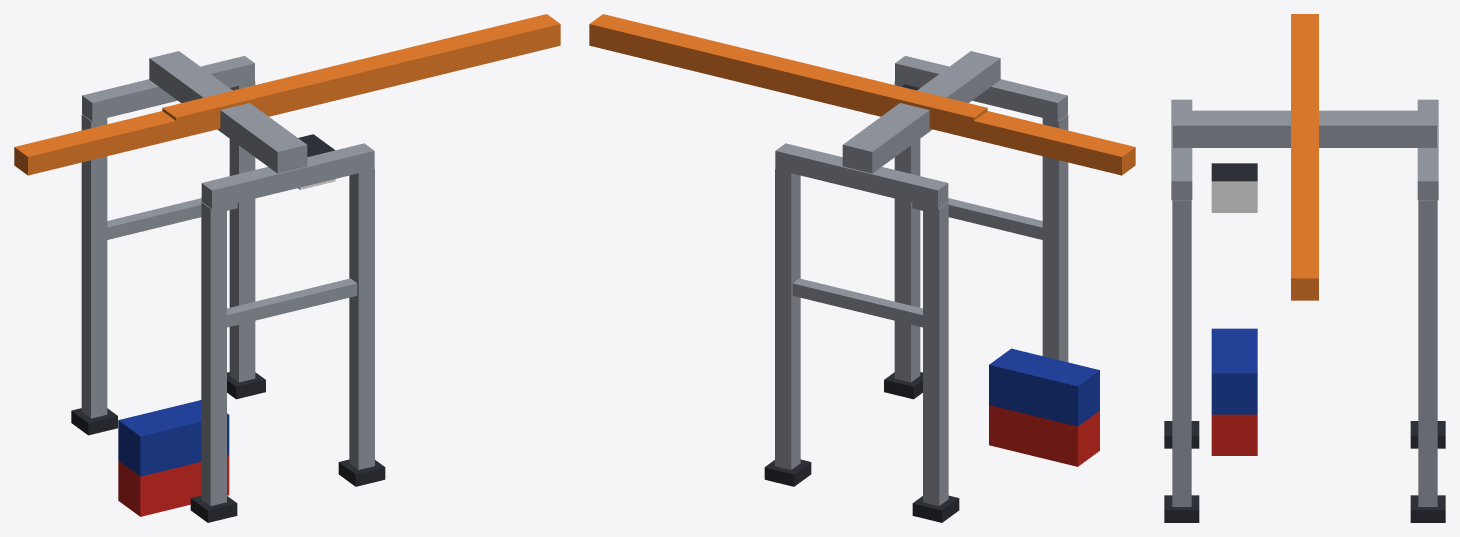
The model's file is grua_puerto.obj.
3 views of the same model, side by side, from view 1: azimuth 30°, elevation 25°; view 2: azimuth 150°, elevation 25°; view 3: azimuth 270°, elevation 25° (orthographic). The views are drawn at different scales.
Visible parts, largest first — view 1: grua_puerto; view 2: grua_puerto; view 3: grua_puerto.
Part boxes in pixels (bbox=[...]): grua_puerto: bbox=[14, 14, 560, 522]; grua_puerto: bbox=[589, 14, 1135, 522]; grua_puerto: bbox=[1164, 14, 1445, 522].
Bounding box in the file's own units: 36 × 22.8 × 16.
